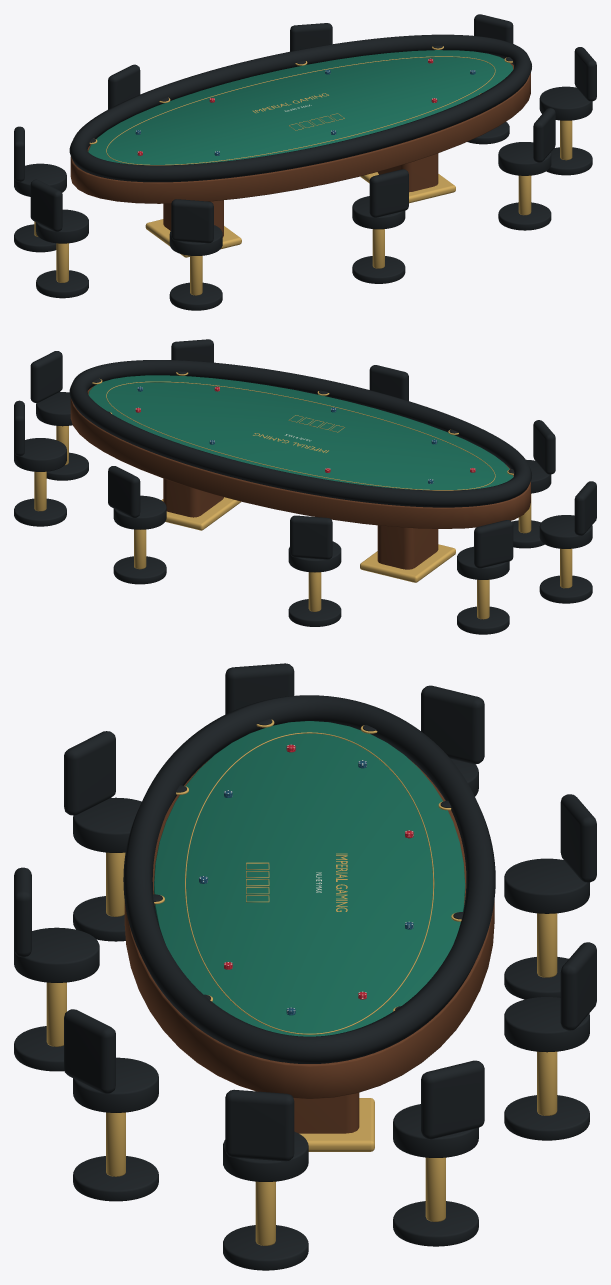
Rendered from NLHE_9.glb.
3 views of the same model, one above another, from view 1: azimuth 30°, elevation 25°; view 2: azimuth 150°, elevation 25°; view 3: azimuth 270°, elevation 25° (orthographic). The views are drawn at different scales.
Visible parts, largest first — view 1: Emerald playing surface, Padded perimeter rail, Walnut table cabinet, Seat 08 backrest, Seat 00 backrest, Seat 02 cushion, Seat 07 backrest, Seat 01 cushion, Seat 07 cushion, Seat 01 foot, Seat 00 foot, Seat 08 foot (+23 smaller); view 2: Emerald playing surface, Padded perimeter rail, Walnut table cabinet, Pedestal, Seat 05 backrest, Seat 06 backrest, Pedestal.001, Seat 03 cushion, Seat 04 backrest, Seat 02 backrest, Pedestal brass shoe, Seat 07 cushion (+24 smaller); view 3: Emerald playing surface, Padded perimeter rail, Walnut table cabinet, Seat 02 backrest, Seat 03 backrest, Seat 06 backrest, Seat 05 cushion, Seat 00 cushion, Seat 01 backrest, Seat 08 backrest, Seat 04 cushion, Seat 01 cushion (+24 smaller).
Boxes of the visible parts, <box> form: Emerald playing surface: <box>88,50,513,164</box>; Padded perimeter rail: <box>69,34,531,182</box>; Walnut table cabinet: <box>70,63,530,203</box>; Seat 08 backrest: <box>171,199,213,243</box>; Seat 00 backrest: <box>369,169,408,217</box>; Seat 02 cushion: <box>539,86,592,120</box>; Seat 07 backrest: <box>30,179,62,231</box>; Seat 01 cushion: <box>498,142,551,175</box>; Seat 07 cushion: <box>36,209,88,243</box>; Seat 01 foot: <box>498,202,551,230</box>; Seat 00 foot: <box>352,256,405,283</box>; Seat 08 foot: <box>169,282,222,310</box>; Emerald playing surface: <box>88,375,513,490</box>; Padded perimeter rail: <box>69,360,531,507</box>; Walnut table cabinet: <box>70,385,530,528</box>; Pedestal: <box>377,525,438,569</box>; Seat 05 backrest: <box>290,515,332,559</box>; Seat 06 backrest: <box>474,520,513,568</box>; Pedestal.001: <box>163,478,223,517</box>; Seat 03 cushion: <box>14,438,66,471</box>; Seat 04 backrest: <box>108,466,140,517</box>; Seat 02 backrest: <box>30,351,62,402</box>; Pedestal brass shoe: <box>360,544,455,582</box>; Seat 07 cushion: <box>539,515,592,548</box>; Emerald playing surface: <box>154,721,465,1036</box>; Padded perimeter rail: <box>123,695,495,1063</box>; Walnut table cabinet: <box>124,759,494,1099</box>; Seat 02 backrest: <box>225,1089,294,1161</box>; Seat 03 backrest: <box>421,1060,484,1139</box>; Seat 06 backrest: <box>421,685,484,764</box>; Seat 05 cushion: <box>504,858,589,913</box>; Seat 00 cushion: <box>14,927,99,982</box>; Seat 01 backrest: <box>64,1009,115,1093</box>; Seat 08 backrest: <box>64,731,115,815</box>; Seat 04 cushion: <box>504,997,589,1052</box>; Seat 01 cushion: <box>73,1057,158,1112</box>.
Bounding box in the file's own units: 4.59 × 0.9175 × 2.58.
